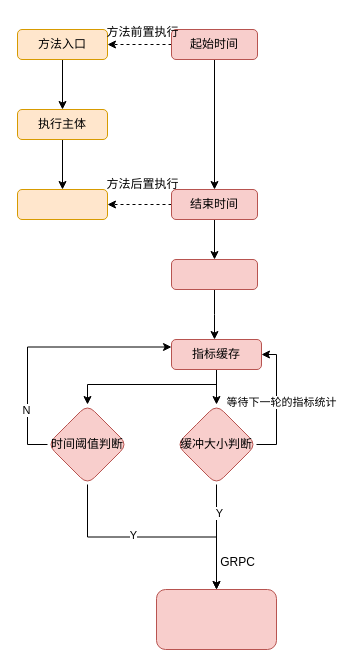
The diagram is 353 pixels wide and 667 high, and some of its shapes have lost their labels. Here are the shapes that lost their labels. From the top down, the centre of each, then its label:
At [62,204]: "方法出口".
At [214,274]: "指标统计（count，lay）".
At [216,619]: "入存储库".
